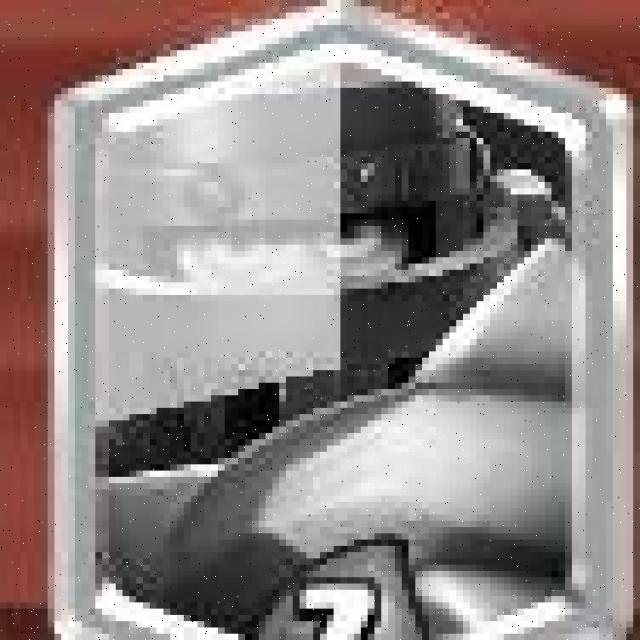Mega_Knight: (57, 11, 630, 640)
